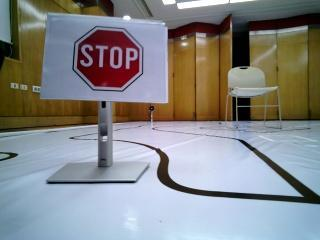stop: (59, 16, 157, 97)
